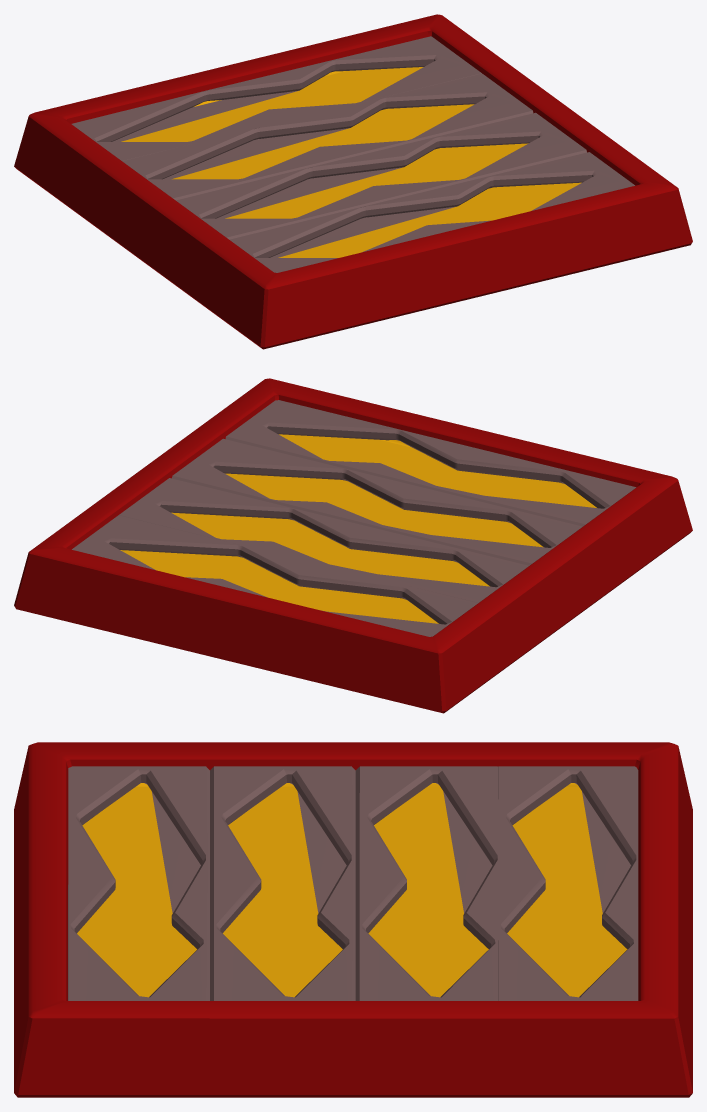
File: FirePlate.fbx
3 renders of one model, top to bottom at view 1: azimuth 30°, elevation 25°; view 2: azimuth 150°, elevation 25°; view 3: azimuth 270°, elevation 25°, orthographic. The views are drawn at different scales.
Parts seen in each view (by area): view 1: polySurface17; view 2: polySurface17; view 3: polySurface17.
Part boxes in pixels (x1,y1,x2,y2): polySurface17: (14,14,692,349); polySurface17: (14,378,692,713); polySurface17: (14,742,692,1097).
Bounding box in the file's own units: 99.75 × 12.63 × 99.75.
